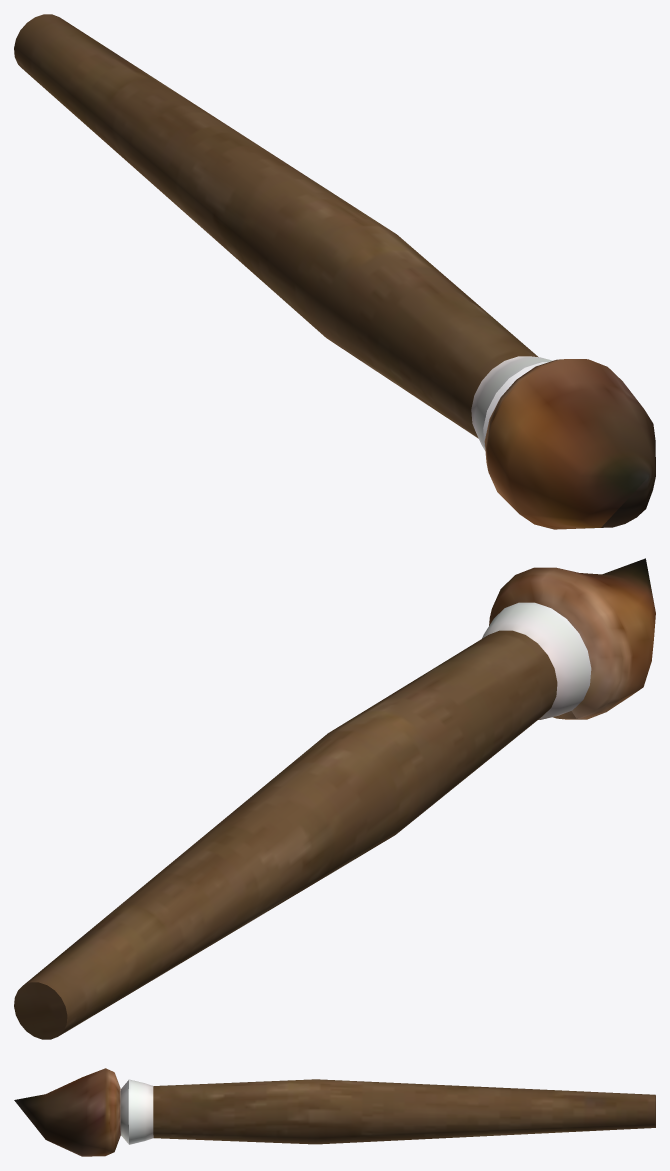
File: pm-brush-01.glb
3 views of the same model, one above another, from view 1: azimuth 30°, elevation 25°; view 2: azimuth 150°, elevation 25°; view 3: azimuth 270°, elevation 25° (orthographic). The views are drawn at different scales.
Visible parts, largest first — view 1: Brush01; view 2: Brush01; view 3: Brush01.
Part boxes in pixels (x1,y1,x2,y2): Brush01: (14,14,655,529); Brush01: (14,558,655,1039); Brush01: (14,1068,655,1156).
Size of the model in its own units: 0.0661 by 0.0659 by 0.4789.
1 material, 1 textured.
